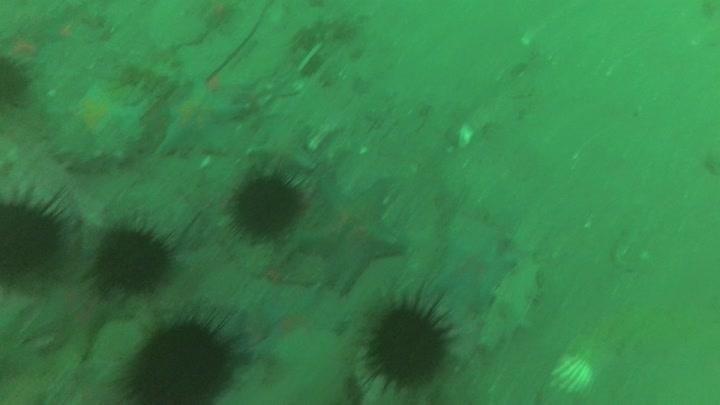echinus: (121, 311, 243, 404), (358, 291, 458, 394), (0, 185, 70, 288), (90, 219, 176, 296), (227, 170, 306, 241), (0, 52, 33, 112)
holothurian: (477, 256, 545, 352), (287, 14, 362, 50), (115, 56, 186, 94)
scallop: (547, 350, 597, 397)
starfish: (293, 172, 409, 293), (241, 290, 354, 402), (43, 77, 149, 170), (155, 74, 248, 159), (23, 274, 116, 359), (432, 224, 518, 311), (251, 283, 336, 365), (249, 117, 320, 178), (2, 28, 45, 67)
